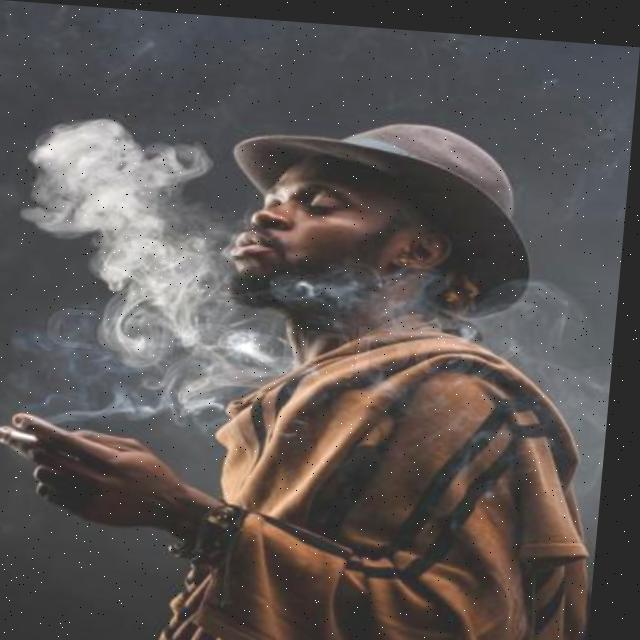cigarette: (0, 423, 51, 447)
